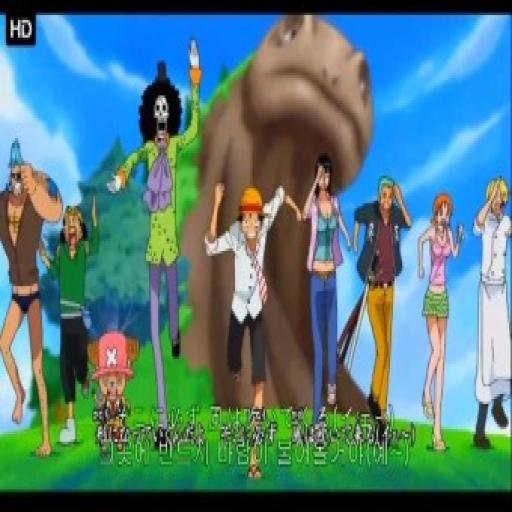Luffy: (230, 171, 271, 253)
Nami: (432, 191, 456, 234)
NicoRobin: (309, 146, 336, 206)
Usopp: (57, 201, 88, 260)
Zoro: (376, 173, 400, 220)
sanji: (480, 170, 510, 224)
